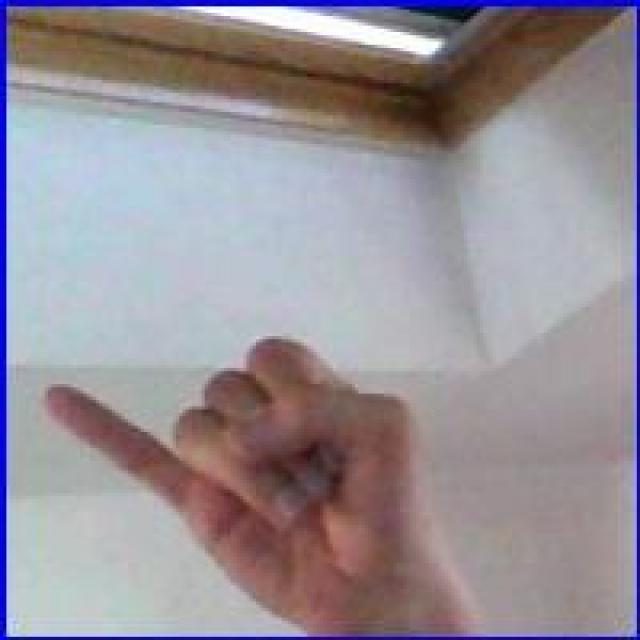J: (26, 325, 477, 619)
